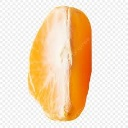orange: (26, 5, 95, 121)
